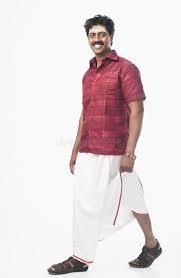Human: (50, 8, 160, 278)
